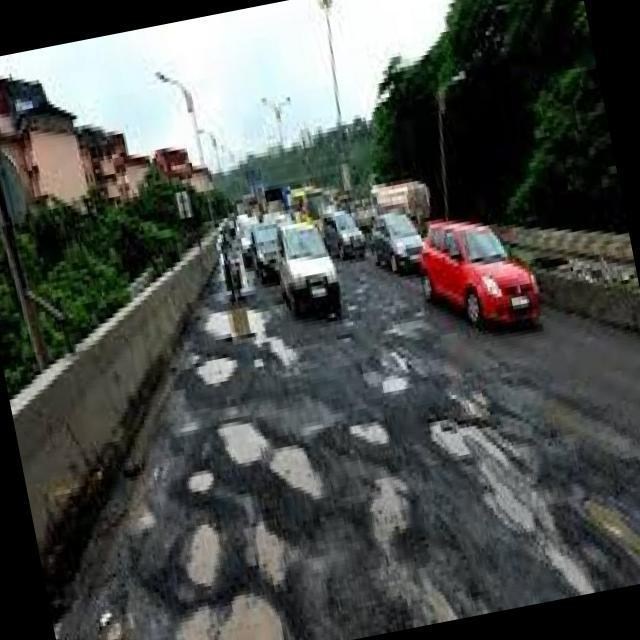Pothole: (217, 422, 323, 500), (182, 564, 287, 640), (185, 524, 234, 589), (254, 525, 282, 583)
